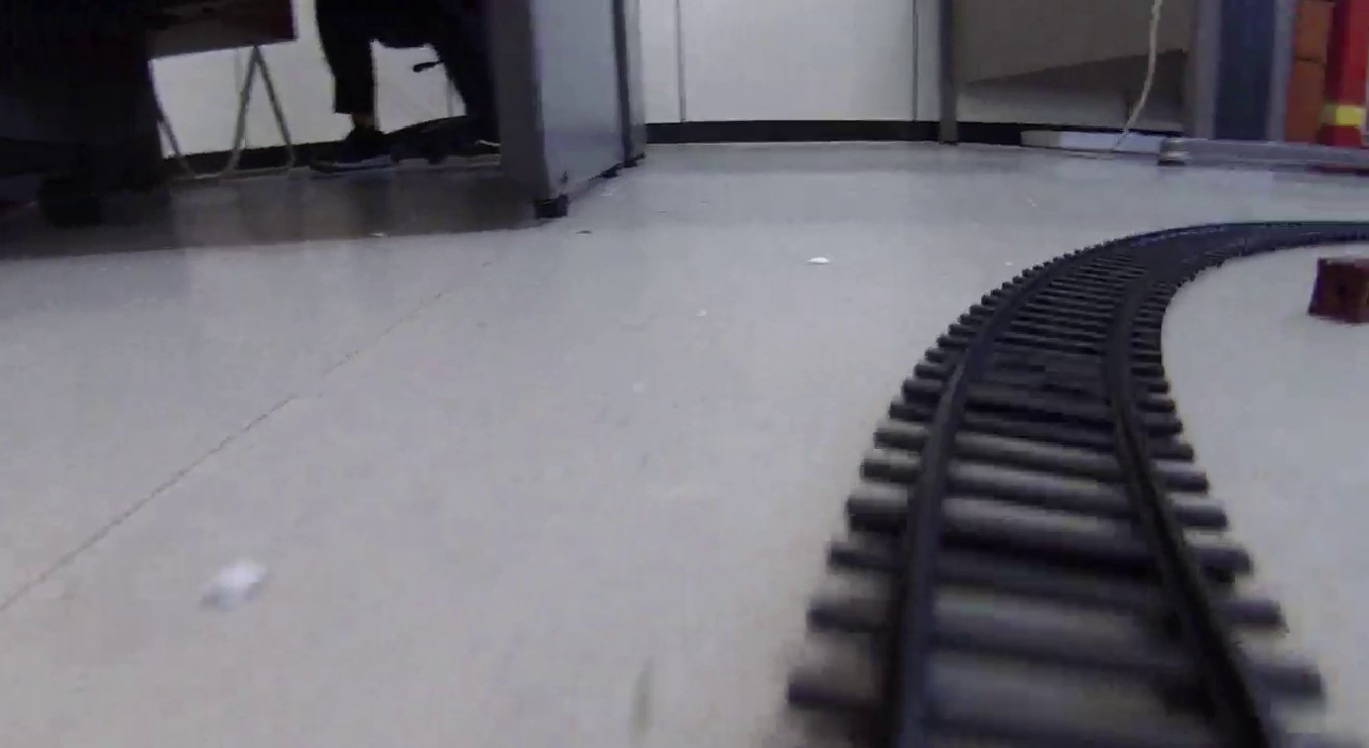box: (1315, 261, 1369, 328)
